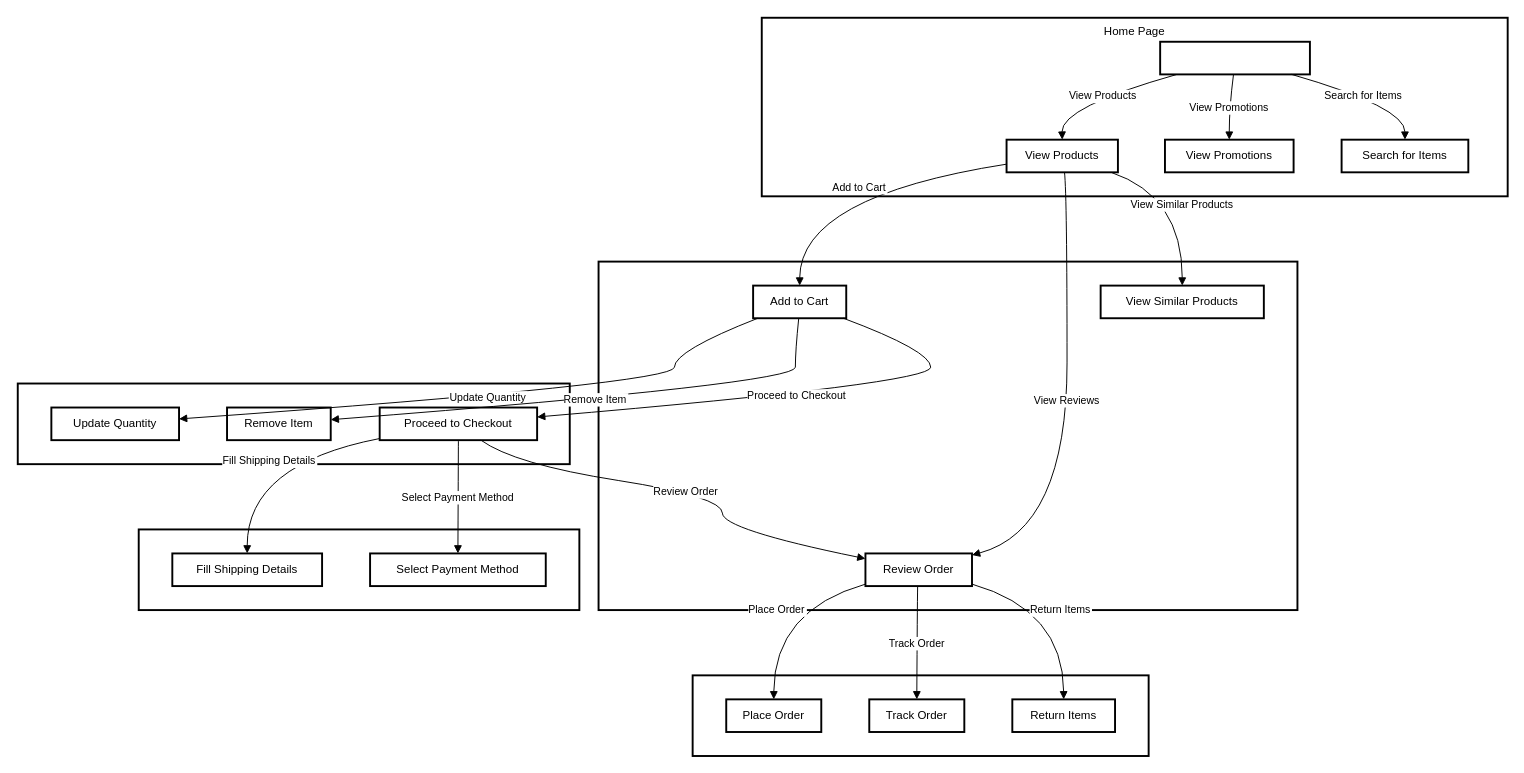
Some shapes in this 1524 by 773 pixel diagram are drawn without their labels. The shapes that lost their labels are listed below. From the top down, each one's box as (x1, y1, x2, y2) in pixels, then its label:
(1159, 40, 1310, 75): Click on Home Page
(16, 382, 570, 465): Cart Page
(597, 260, 1298, 611): Product Page
(137, 528, 580, 611): Checkout Page
(691, 674, 1149, 756): Order Confirmation
